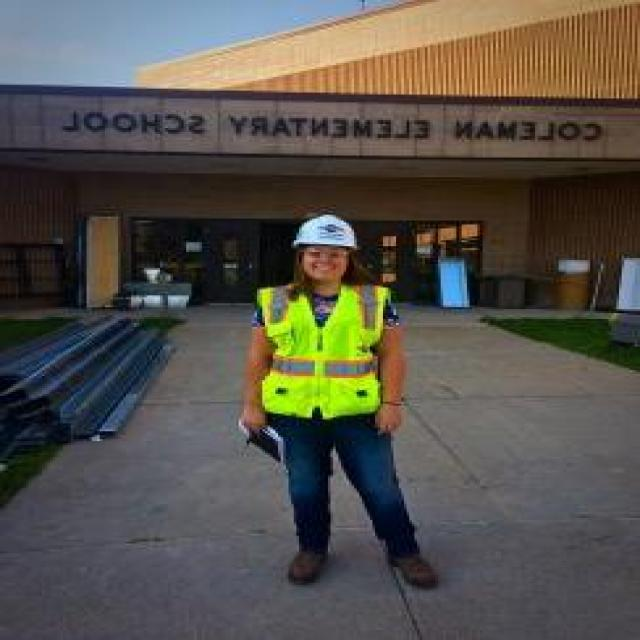Reflective-Jacket: (236, 278, 409, 433)
Safety-Helmet: (286, 207, 367, 256)
